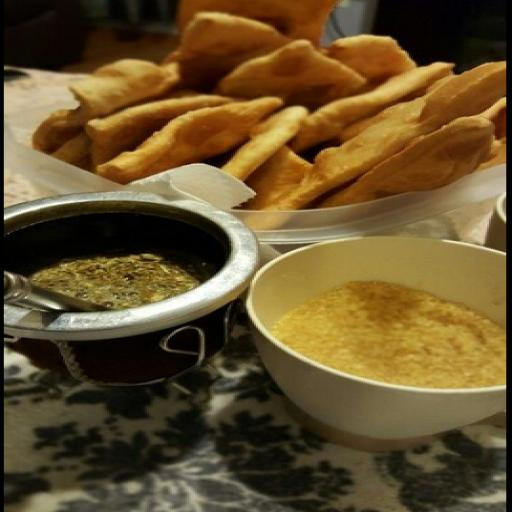bolleria: (33, 13, 506, 210)
mate: (2, 192, 259, 385)
